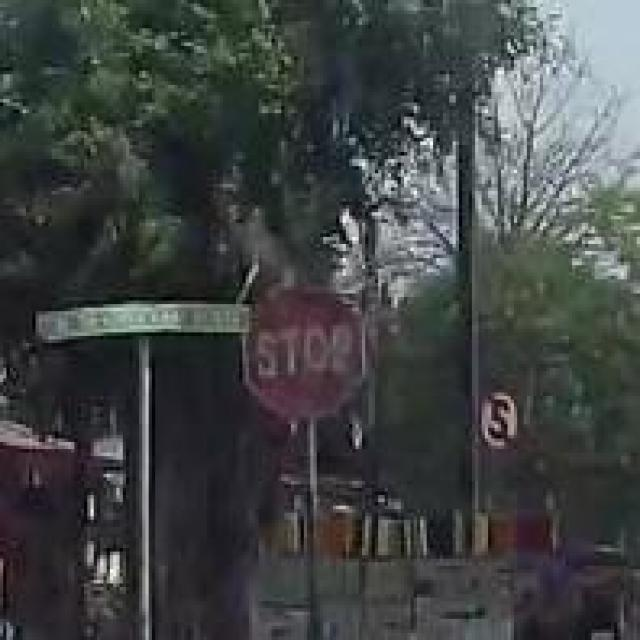traffic sign: (255, 293, 362, 420)
